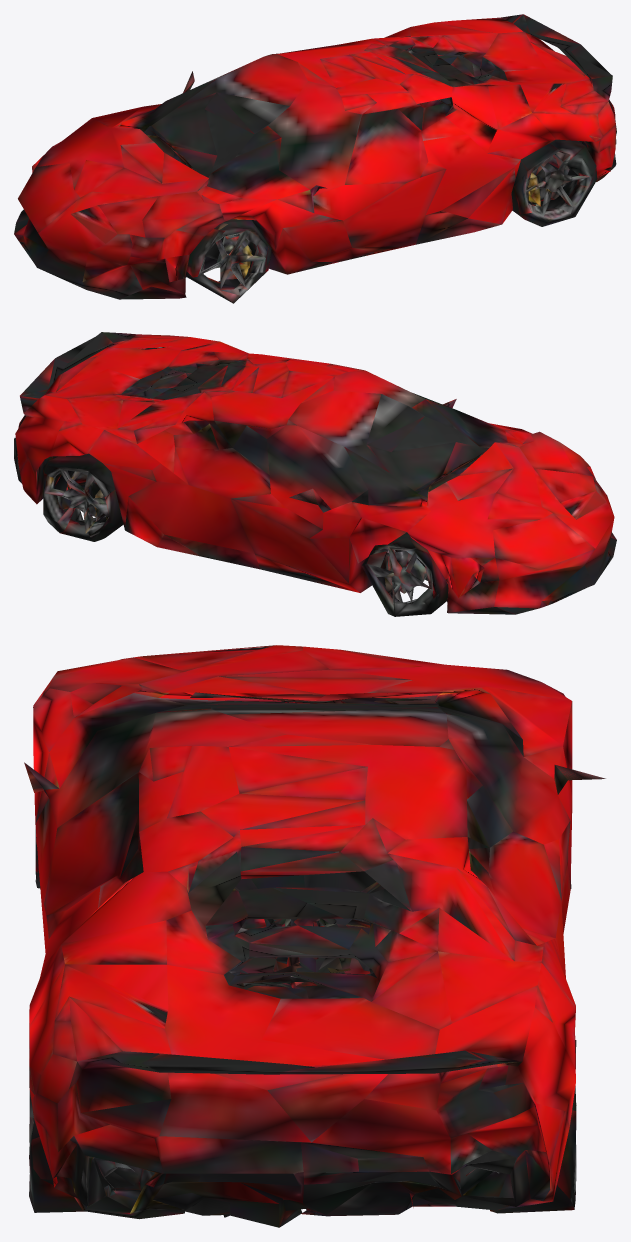
File: car_speed_far.glb
3 views of the same model, one above another, from view 1: azimuth 30°, elevation 25°; view 2: azimuth 150°, elevation 25°; view 3: azimuth 270°, elevation 25° (orthographic). The views are drawn at different scales.
Bounding box in the file's own units: 1.9 × 0.4775 × 0.8745.
1 material, 1 textured.
